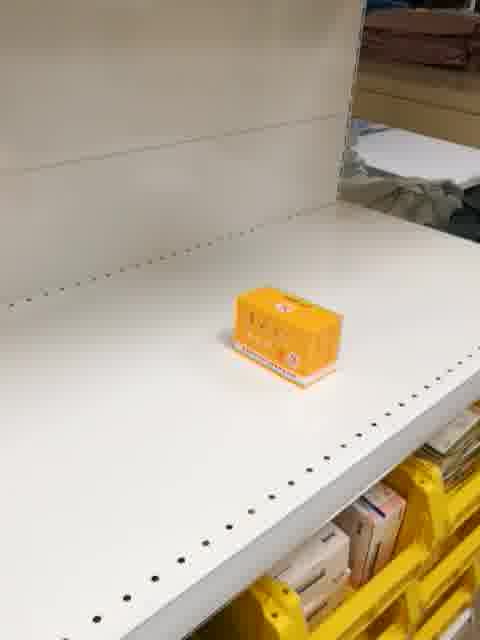jasminetea: (231, 285, 343, 390)
